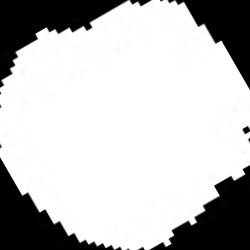spot: (0, 2, 248, 248)
